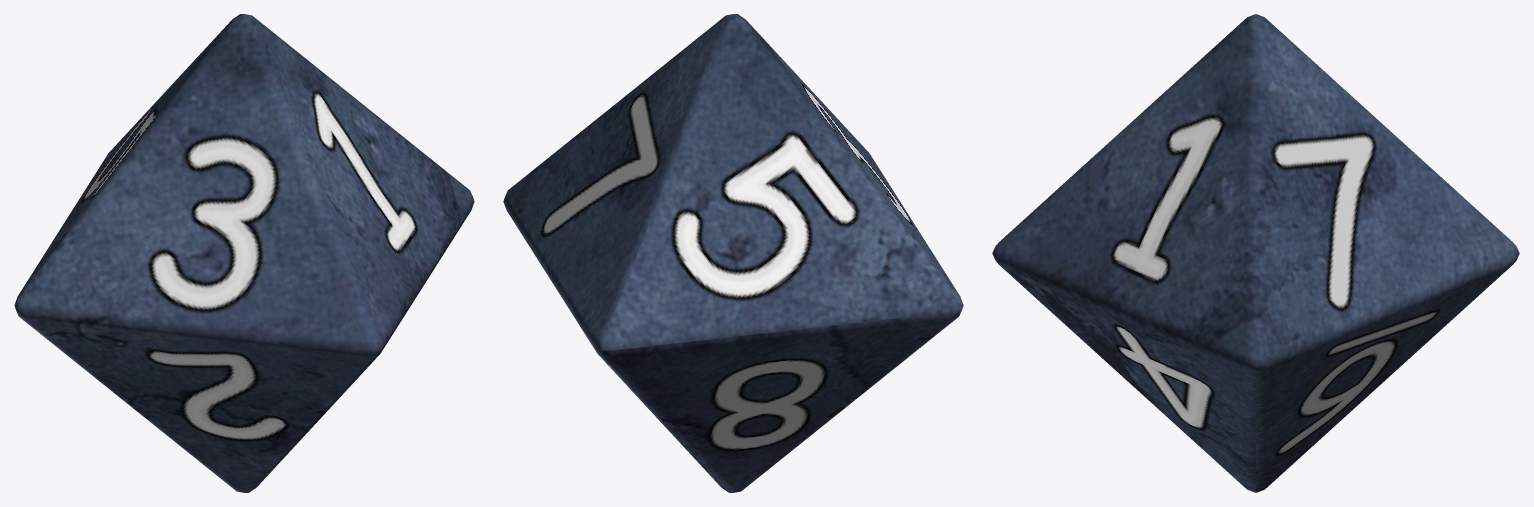
The picture shows the model from 3 angles, left to right: view 1: azimuth 30°, elevation 25°; view 2: azimuth 150°, elevation 25°; view 3: azimuth 270°, elevation 25°; orthographic projection.
Visible parts, largest first — view 1: d8_smooth; view 2: d8_smooth; view 3: d8_smooth.
Part boxes in pixels (x1=…): d8_smooth: x1=14, y1=14, x2=474, y2=492; d8_smooth: x1=503, y1=14, x2=963, y2=492; d8_smooth: x1=992, y1=14, x2=1519, y2=492.
Size of the model in its own units: 7.26 by 7.26 by 7.26.
1 material, 1 textured.
